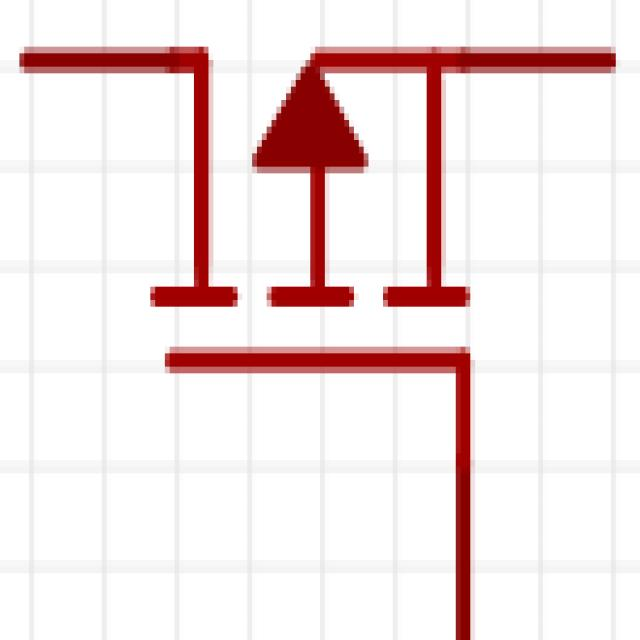pmos: (19, 24, 633, 607)
